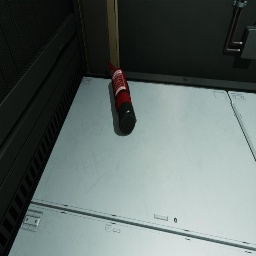FireExtinguisher ]: (108, 61, 137, 135)
